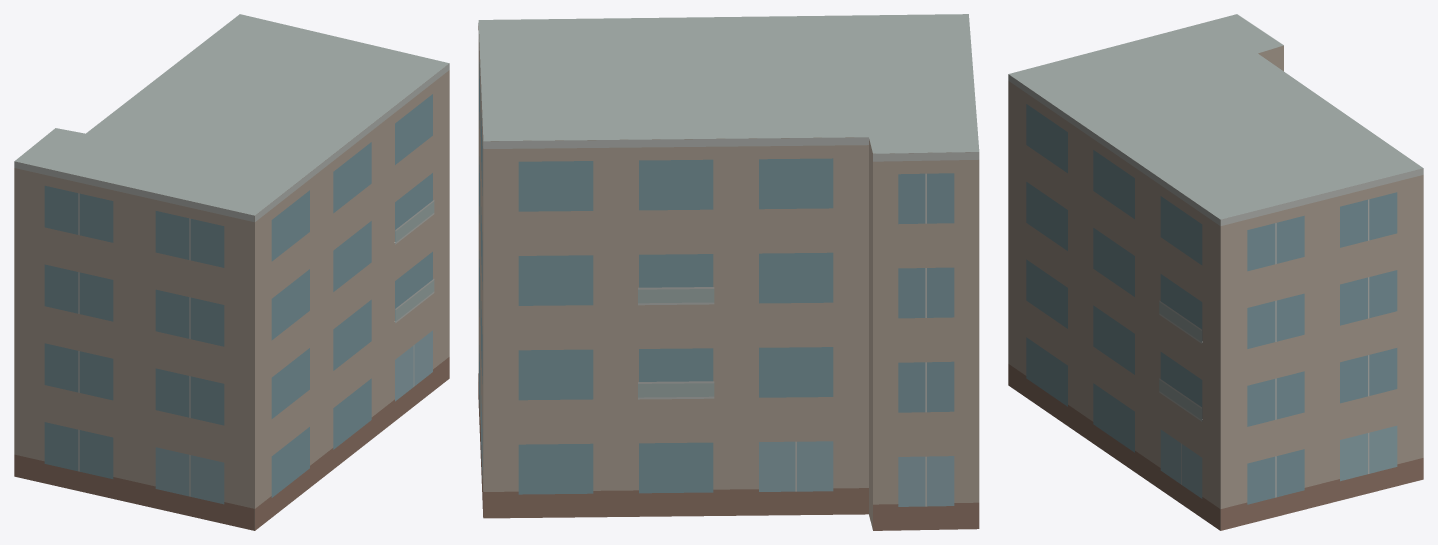
Rendered from survey-upis-33041386.glb.
3 views of the same model, side by side, from view 1: azimuth 30°, elevation 25°; view 2: azimuth 150°, elevation 25°; view 3: azimuth 270°, elevation 25° (orthographic). The views are drawn at different scales.
Visible parts, largest first — view 1: survey-upis-33041386.tmp; view 2: survey-upis-33041386.tmp; view 3: survey-upis-33041386.tmp.
Part boxes in pixels (x1,y1,x2,y2): survey-upis-33041386.tmp: (14,14,449,530); survey-upis-33041386.tmp: (478,14,979,530); survey-upis-33041386.tmp: (1008,14,1423,530).
Bounding box in the file's own units: 16.45 × 11.6 × 14.04.
